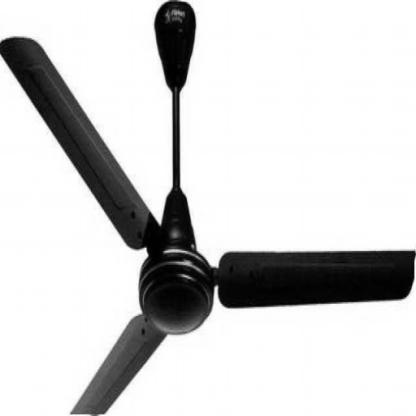ceiling-fan: (0, 2, 415, 415)
